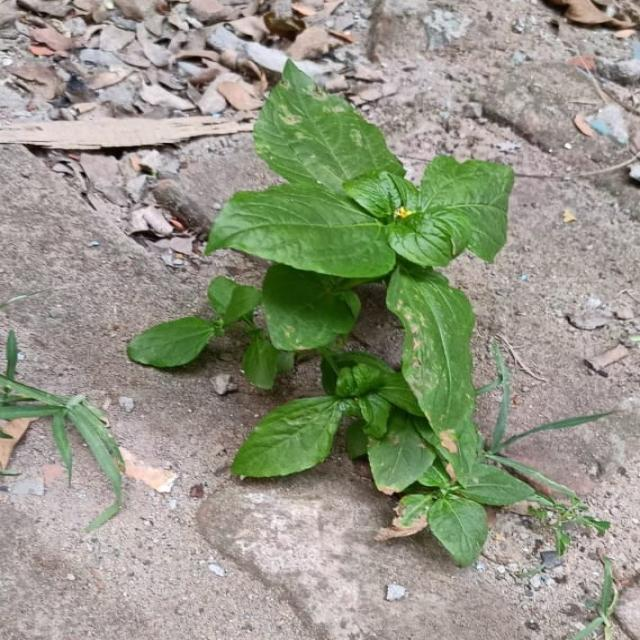weed: (127, 64, 535, 566), (340, 292, 362, 349), (321, 360, 336, 393)
